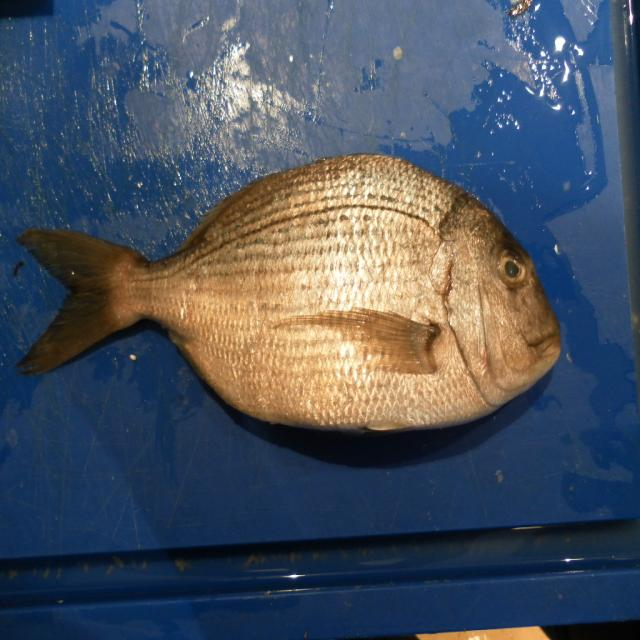Red-Sea-Bream-mercan-: (16, 154, 563, 440)
